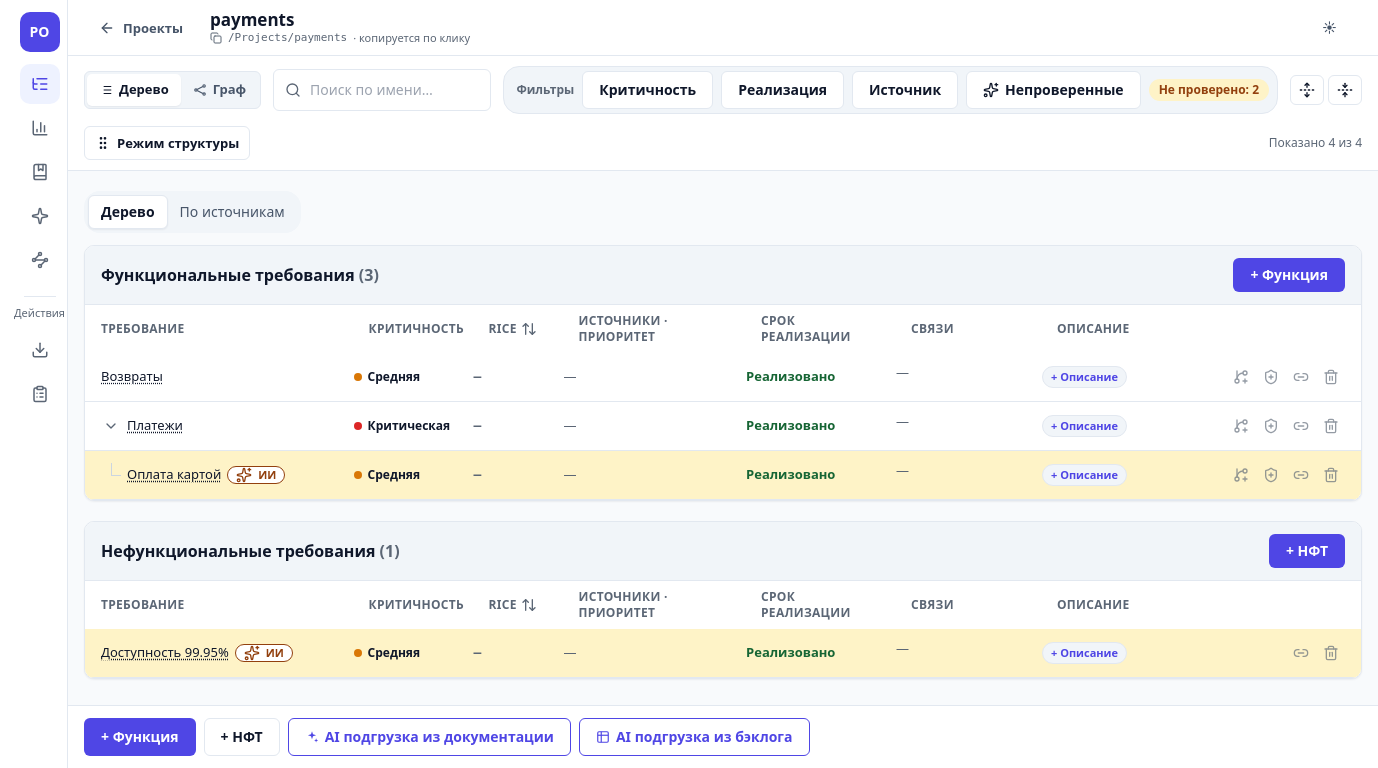
Test: Main — фильтр и счётчик непроверенных ИИ-требований (task26) › клик по счётчику включает фильтр
Expected: the row with test id "tree-row-card" is shown, x1=85 y1=450 x2=1361 y2=500
Click the button with test id "ai-pending-count" at [1209, 90], box x1=1149 y1=79 x2=1269 y2=101
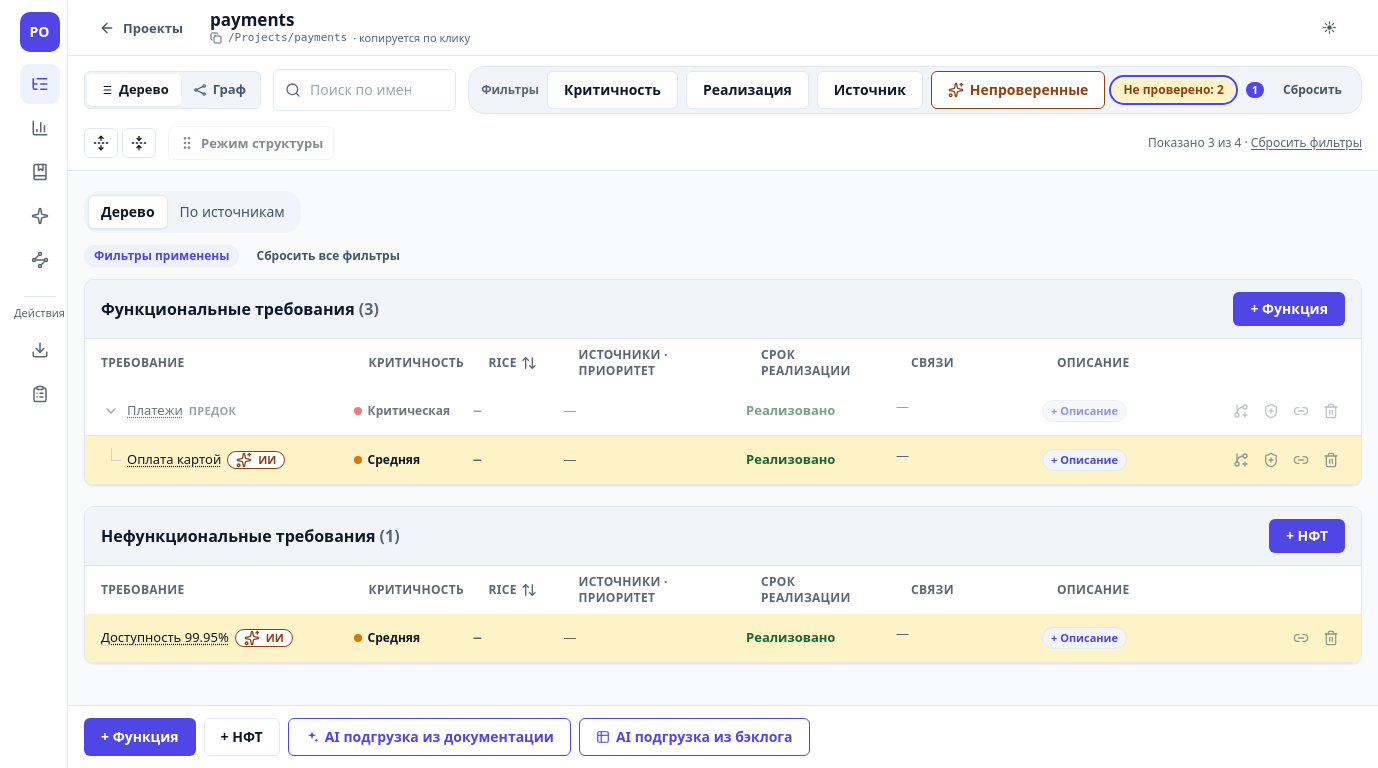
Expected: the row with test id "tree-row-refund" is gone
